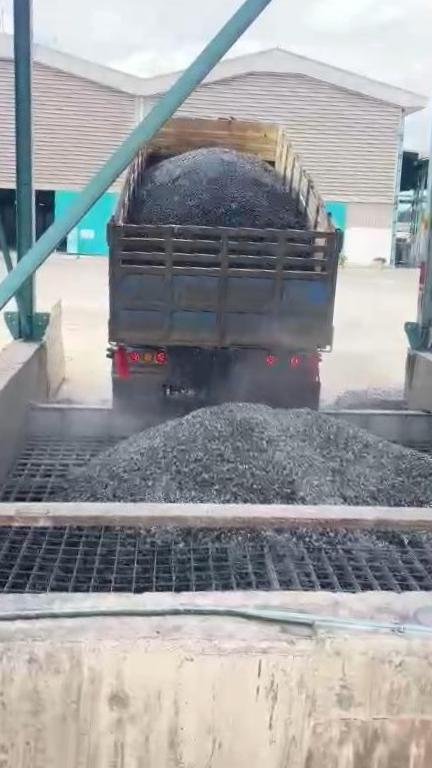gravel: (64, 403, 432, 505), (130, 147, 306, 229), (138, 528, 432, 559), (331, 389, 408, 409)
